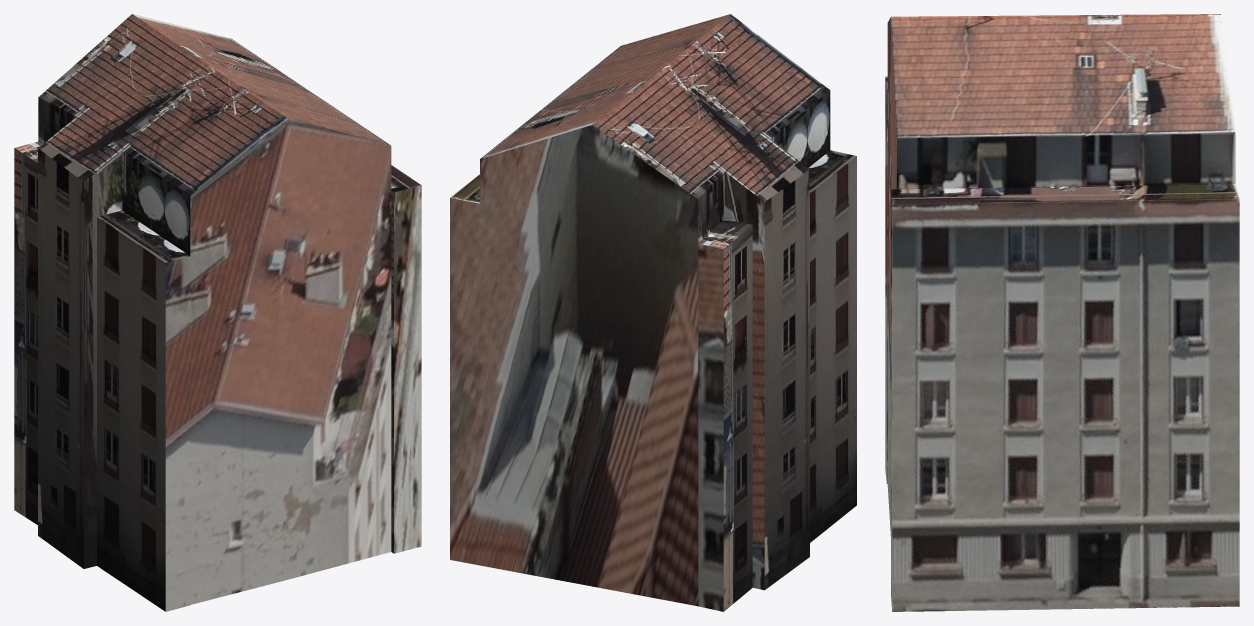
The picture shows the model from 3 angles, left to right: view 1: azimuth 30°, elevation 25°; view 2: azimuth 150°, elevation 25°; view 3: azimuth 270°, elevation 25°; orthographic projection. The views are drawn at different scales.
Parts seen in each view (by area): view 1: Z_UP; view 2: Z_UP; view 3: Z_UP.
Part boxes in pixels (left/top/right/bottom): Z_UP: left=14, top=14, right=421, bottom=611; Z_UP: left=450, top=14, right=856, bottom=611; Z_UP: left=885, top=14, right=1239, bottom=611.
Size of the model in its own units: 13.18 by 21.05 by 12.98.
Materials: 2 (1 with a texture image).
